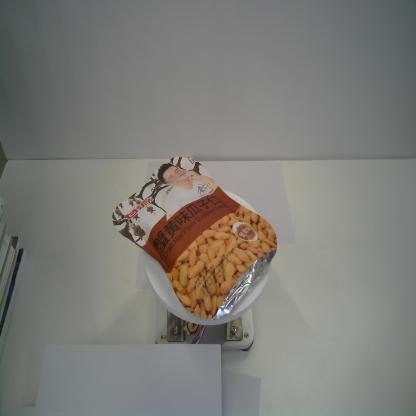Dried Fruit: (112, 156, 278, 322)
